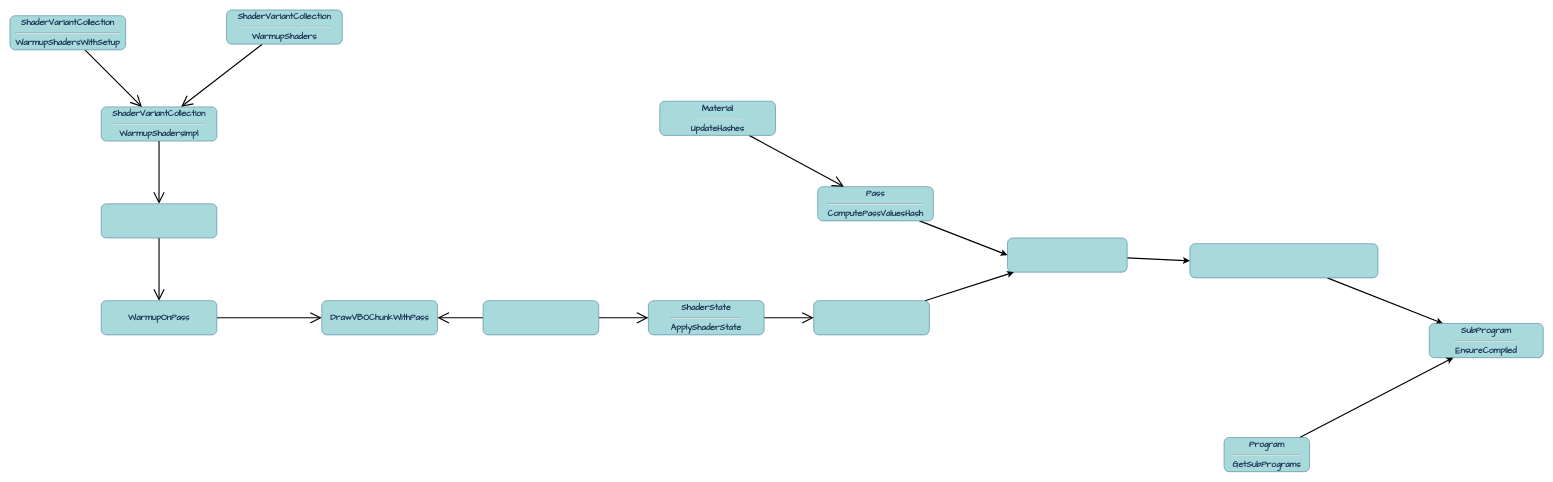
Some shapes in this 1553 by 482 pixel diagram are drawn without their labels. The shapes that lost their labels are listed below. From the top down, each one's centre as x and y in pixels, then its label:
At [159,220]: "WarmupOneShadersImpl".
At [1067,254]: "Program GetMatchingSubProgram".
At [1283,260]: "Program EnsureCompiledAndMarkUnspportedIfFailed".
At [541,317]: "Pass ApplyPass".
At [871,317]: "ShaderState FindSubProgramsToUse".
